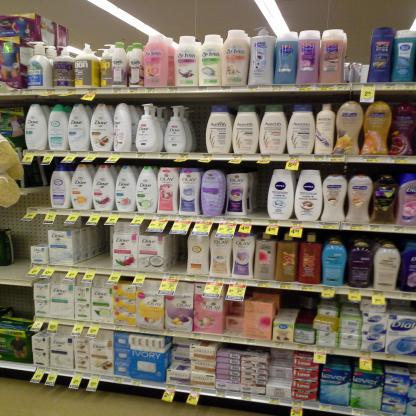Void: (22, 159, 45, 205), (87, 224, 112, 266), (3, 284, 28, 318), (13, 218, 42, 243), (169, 236, 188, 274), (250, 169, 263, 216), (282, 290, 300, 309), (302, 296, 312, 328)
